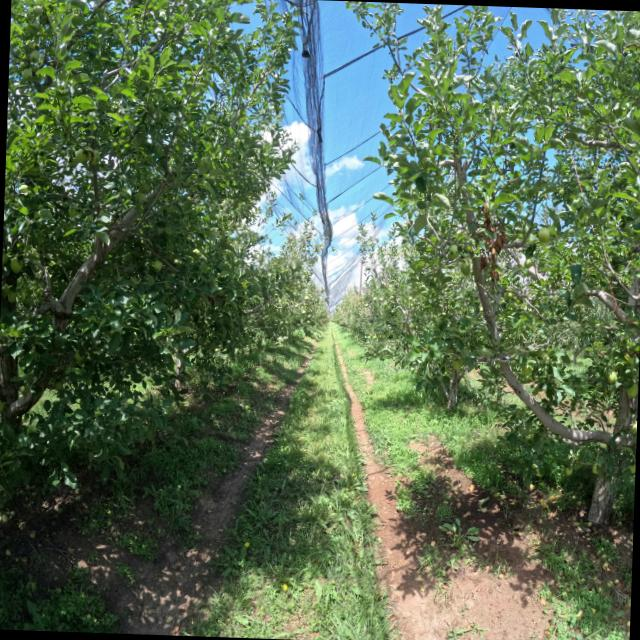-FireBlight-: (478, 202, 510, 289)
